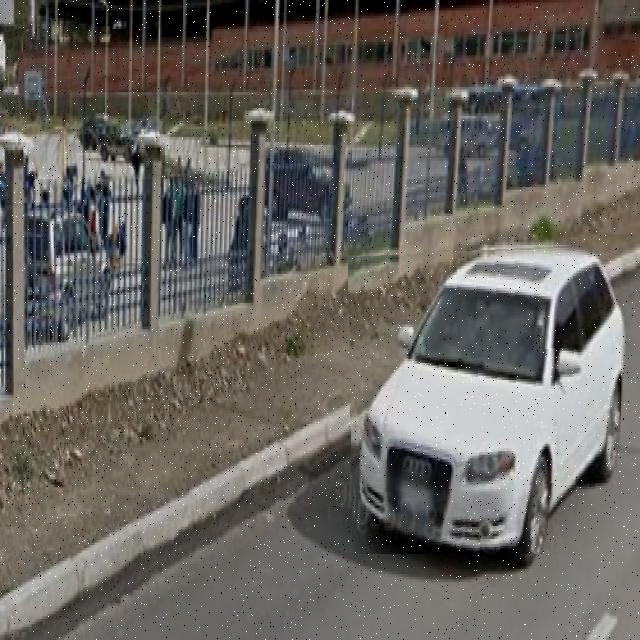car: (349, 244, 622, 555)
